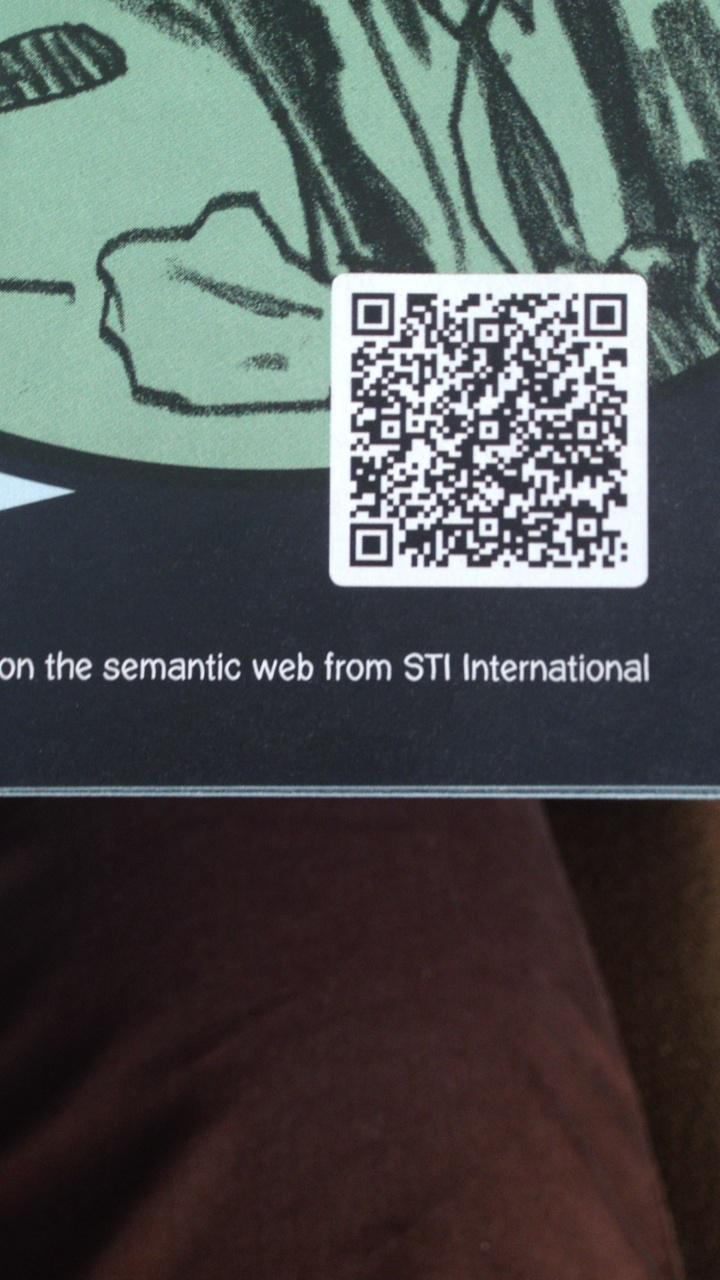Finder pattern: (342, 515, 400, 573), (346, 285, 402, 341), (578, 286, 632, 344)
